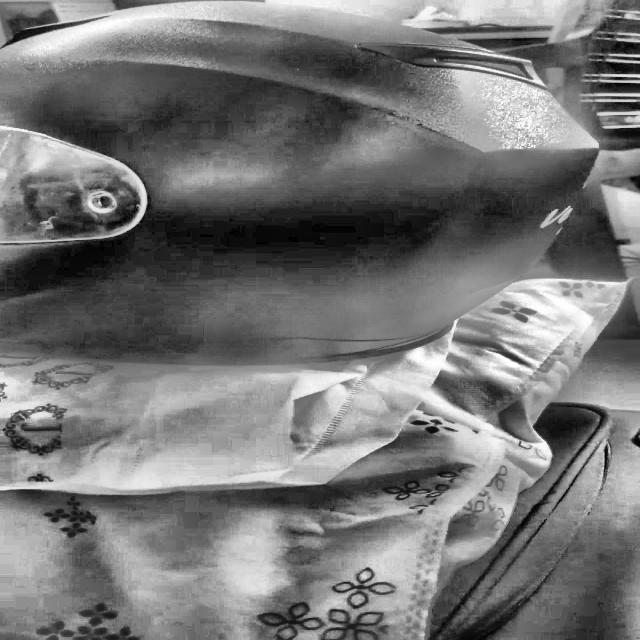Helmet: (0, 0, 611, 370)
